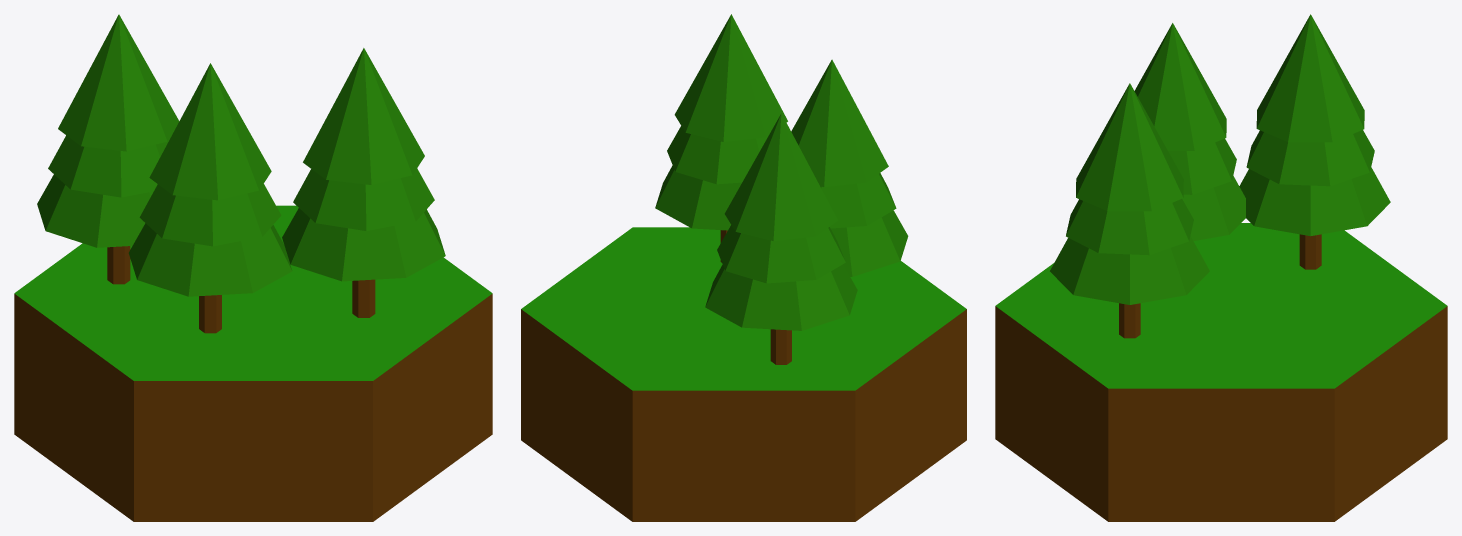
The model's file is altigen_blok_orman.fbx.
3 views of the same model, side by side, from view 1: azimuth 30°, elevation 25°; view 2: azimuth 150°, elevation 25°; view 3: azimuth 270°, elevation 25° (orthographic). The views are drawn at different scales.
Parts seen in each view (by area): view 1: ground; view 2: ground; view 3: ground.
Boxes of the visible parts, left/top/right/bottom form: ground: left=14, top=14, right=492, bottom=521; ground: left=521, top=14, right=966, bottom=521; ground: left=995, top=14, right=1447, bottom=521.
Size of the model in its own units: 1.73 by 1.88 by 2.
